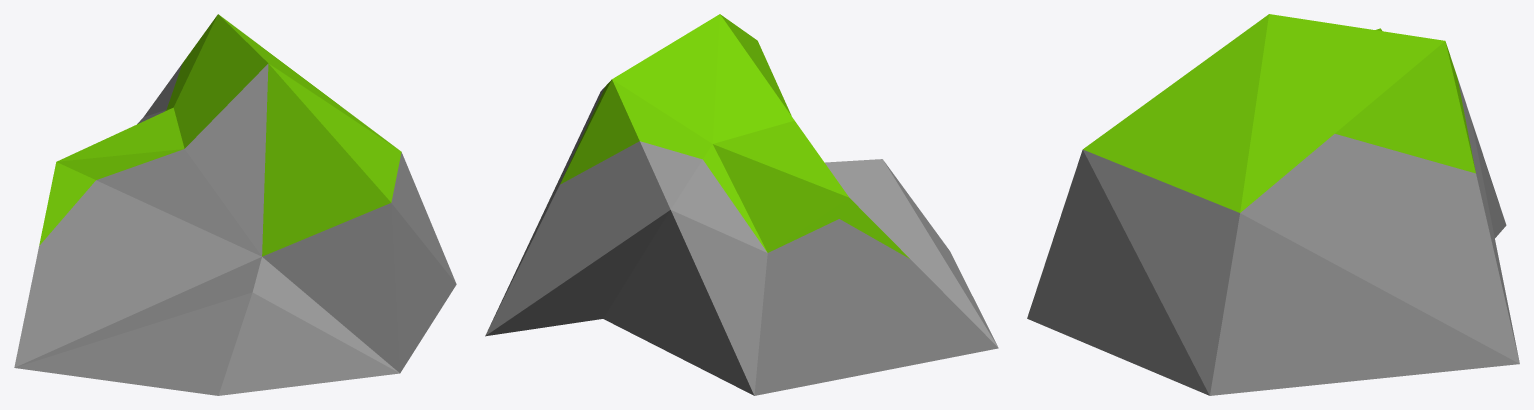
File: RocherGranfd.FBX
The picture shows the model from 3 angles, left to right: view 1: azimuth 30°, elevation 25°; view 2: azimuth 150°, elevation 25°; view 3: azimuth 270°, elevation 25°; orthographic projection. The views are drawn at different scales.
Visible parts, largest first — view 1: RocherGrand; view 2: RocherGrand; view 3: RocherGrand.
Part boxes in pixels (x1,y1,x2,y2): RocherGrand: (14, 14, 456, 395); RocherGrand: (485, 14, 998, 395); RocherGrand: (1027, 14, 1519, 395).
Bounding box in the file's own units: 3.18 × 1.77 × 2.75.
